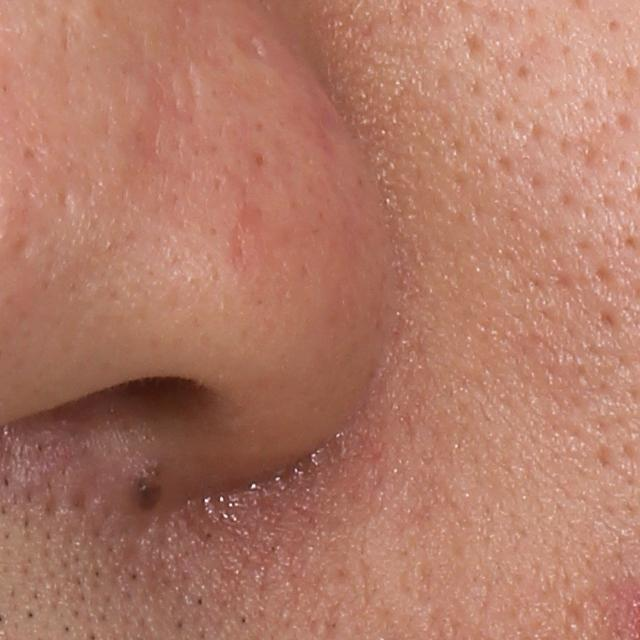atrophic_scar: (134, 49, 165, 169), (227, 27, 270, 66)
